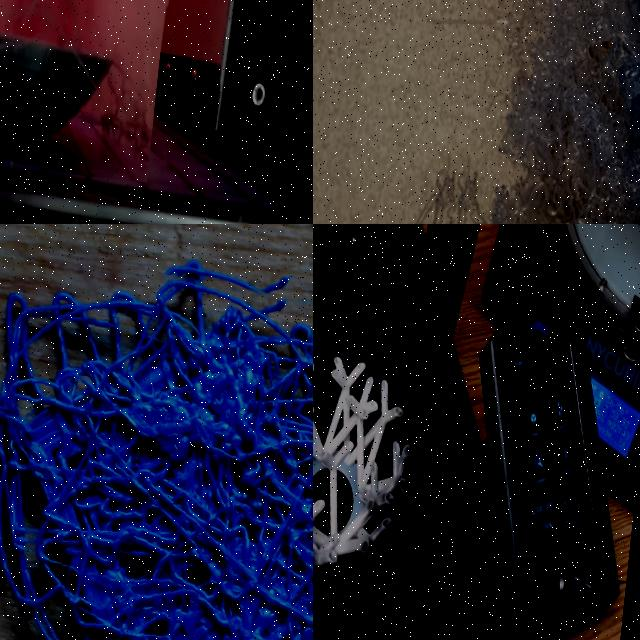spaghetti: (0, 274, 313, 640), (0, 0, 173, 182)
